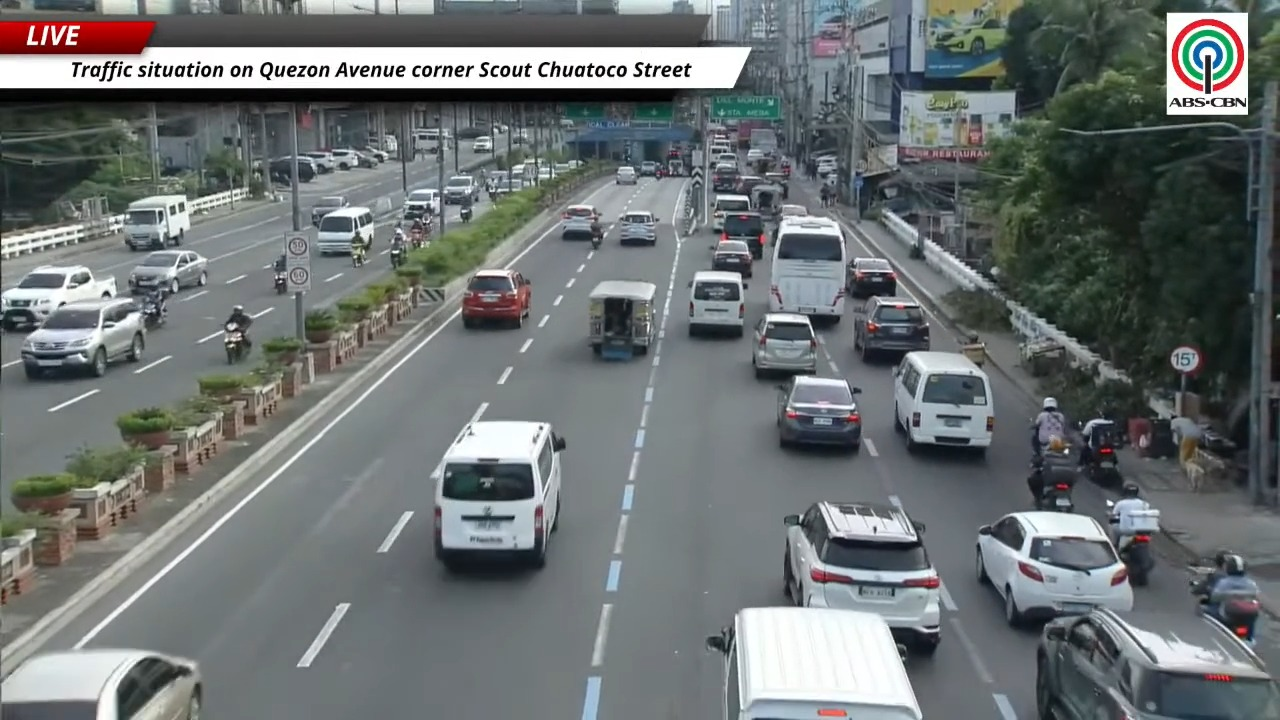bus: (769, 216, 846, 322)
car: (1036, 609, 1279, 719), (784, 502, 940, 654), (432, 420, 565, 570), (975, 511, 1133, 626), (0, 648, 203, 719), (21, 298, 144, 378), (776, 375, 861, 452), (854, 296, 930, 361), (752, 312, 816, 378), (461, 269, 530, 328), (127, 250, 208, 294), (933, 18, 1006, 55), (720, 210, 765, 258), (847, 257, 896, 298), (711, 195, 751, 233), (711, 240, 752, 277), (617, 211, 658, 246), (268, 156, 319, 184), (562, 205, 599, 239), (402, 188, 440, 220), (442, 174, 479, 204), (311, 196, 349, 225), (486, 170, 522, 193), (712, 163, 740, 192), (302, 151, 336, 173), (819, 15, 847, 40), (734, 175, 765, 195), (361, 145, 389, 162), (456, 126, 490, 139), (355, 151, 380, 168), (615, 167, 638, 184), (779, 204, 809, 217), (472, 136, 493, 153), (537, 164, 555, 183), (746, 148, 765, 163), (639, 162, 658, 176), (715, 152, 737, 164), (553, 163, 574, 175)
motorcycle: (1188, 565, 1260, 646), (1106, 501, 1158, 586), (1084, 418, 1122, 485), (1085, 444, 1121, 485), (1036, 482, 1074, 512), (223, 322, 246, 363), (142, 297, 166, 330), (389, 245, 406, 268), (351, 247, 366, 268), (409, 228, 424, 248), (273, 273, 287, 293), (460, 206, 473, 223), (590, 233, 602, 249)
truck: (0, 265, 117, 330), (122, 195, 192, 250)
